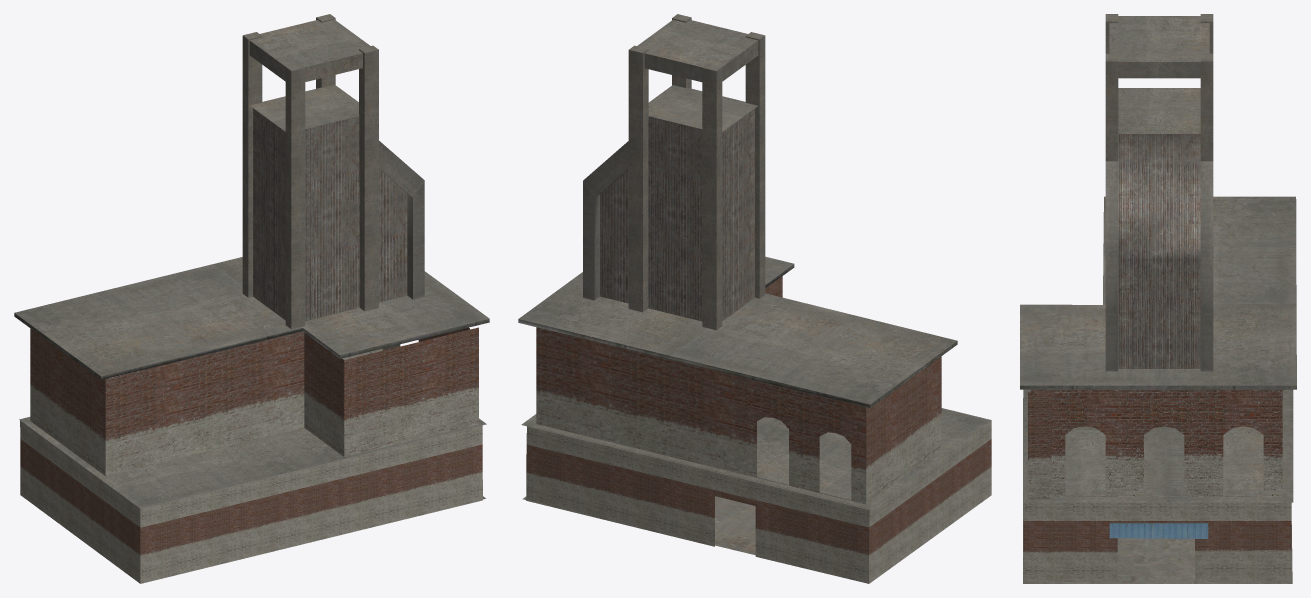
Rendered from Building_HeiygcFz05_2048_lod2.glb.
3 views of the same model, side by side, from view 1: azimuth 30°, elevation 25°; view 2: azimuth 150°, elevation 25°; view 3: azimuth 270°, elevation 25° (orthographic). The views are drawn at different scales.
Visible parts, largest first — view 1: xiutz_heiygc_fz_05_lod2; view 2: xiutz_heiygc_fz_05_lod2; view 3: xiutz_heiygc_fz_05_lod2.
Boxes of the visible parts, x1,y1,x2,y2 form: xiutz_heiygc_fz_05_lod2: [14, 14, 489, 583]; xiutz_heiygc_fz_05_lod2: [518, 14, 991, 583]; xiutz_heiygc_fz_05_lod2: [1020, 14, 1296, 583].
Bounding box in the file's own units: 28.24 × 32.52 × 16.8.
1 material, 1 textured.
